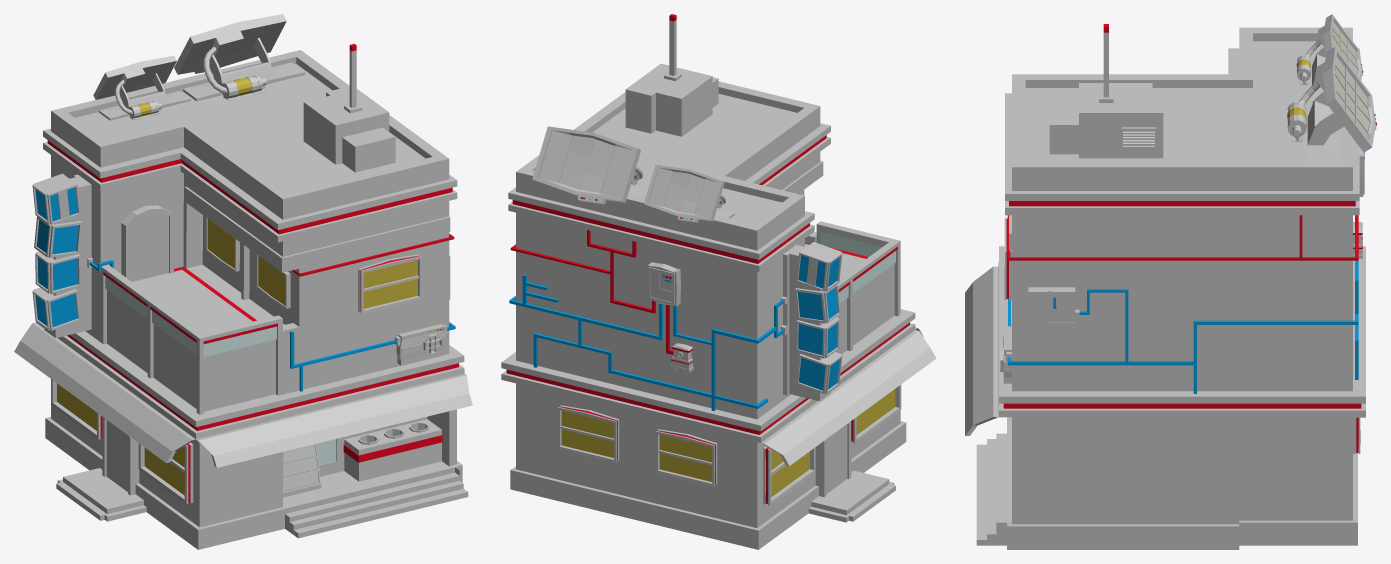
The model's file is House_NeoHouse03.fbx.
3 renders of one model, left to right at view 1: azimuth 30°, elevation 25°; view 2: azimuth 150°, elevation 25°; view 3: azimuth 270°, elevation 25°, orthographic. The views are drawn at different scales.
Parts seen in each view (by area): view 1: CubeHome; view 2: CubeHome; view 3: CubeHome.
Part boxes in pixels (x1,y1,x2,y2): CubeHome: [14, 14, 472, 549]; CubeHome: [501, 14, 936, 549]; CubeHome: [965, 14, 1376, 549].
Bounding box in the file's own units: 662 × 872 × 668.
